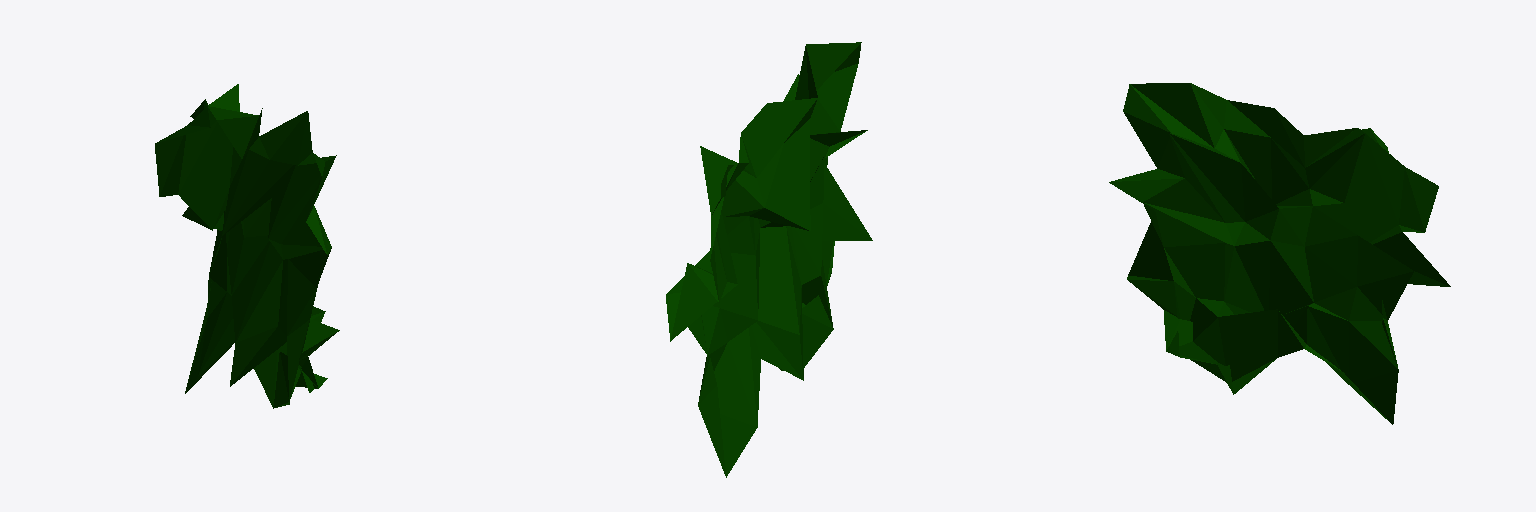
File: wallmoss_4.obj
3 views of the same model, side by side, from view 1: azimuth 30°, elevation 25°; view 2: azimuth 150°, elevation 25°; view 3: azimuth 270°, elevation 25° (orthographic).
Visible parts, largest first — view 1: Plane.001; view 2: Plane.001; view 3: Plane.001.
Boxes of the visible parts, <box> form: Plane.001: <box>155,84,339,408</box>; Plane.001: <box>666,42,872,477</box>; Plane.001: <box>1109,83,1450,424</box>.
Bounding box in the file's own units: 0.2596 × 1.14 × 1.